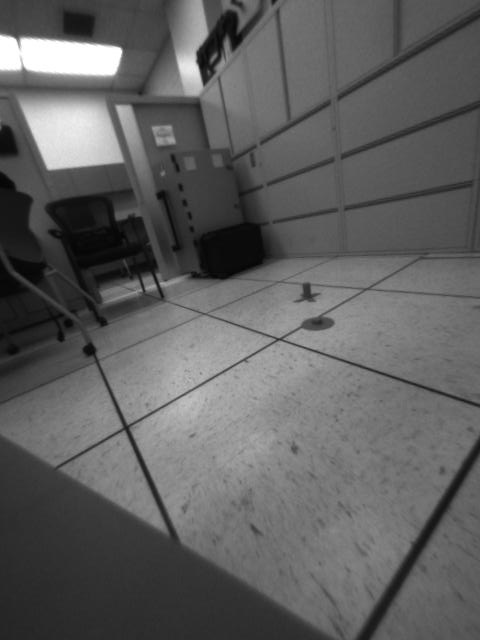X: (292, 281, 324, 305)
